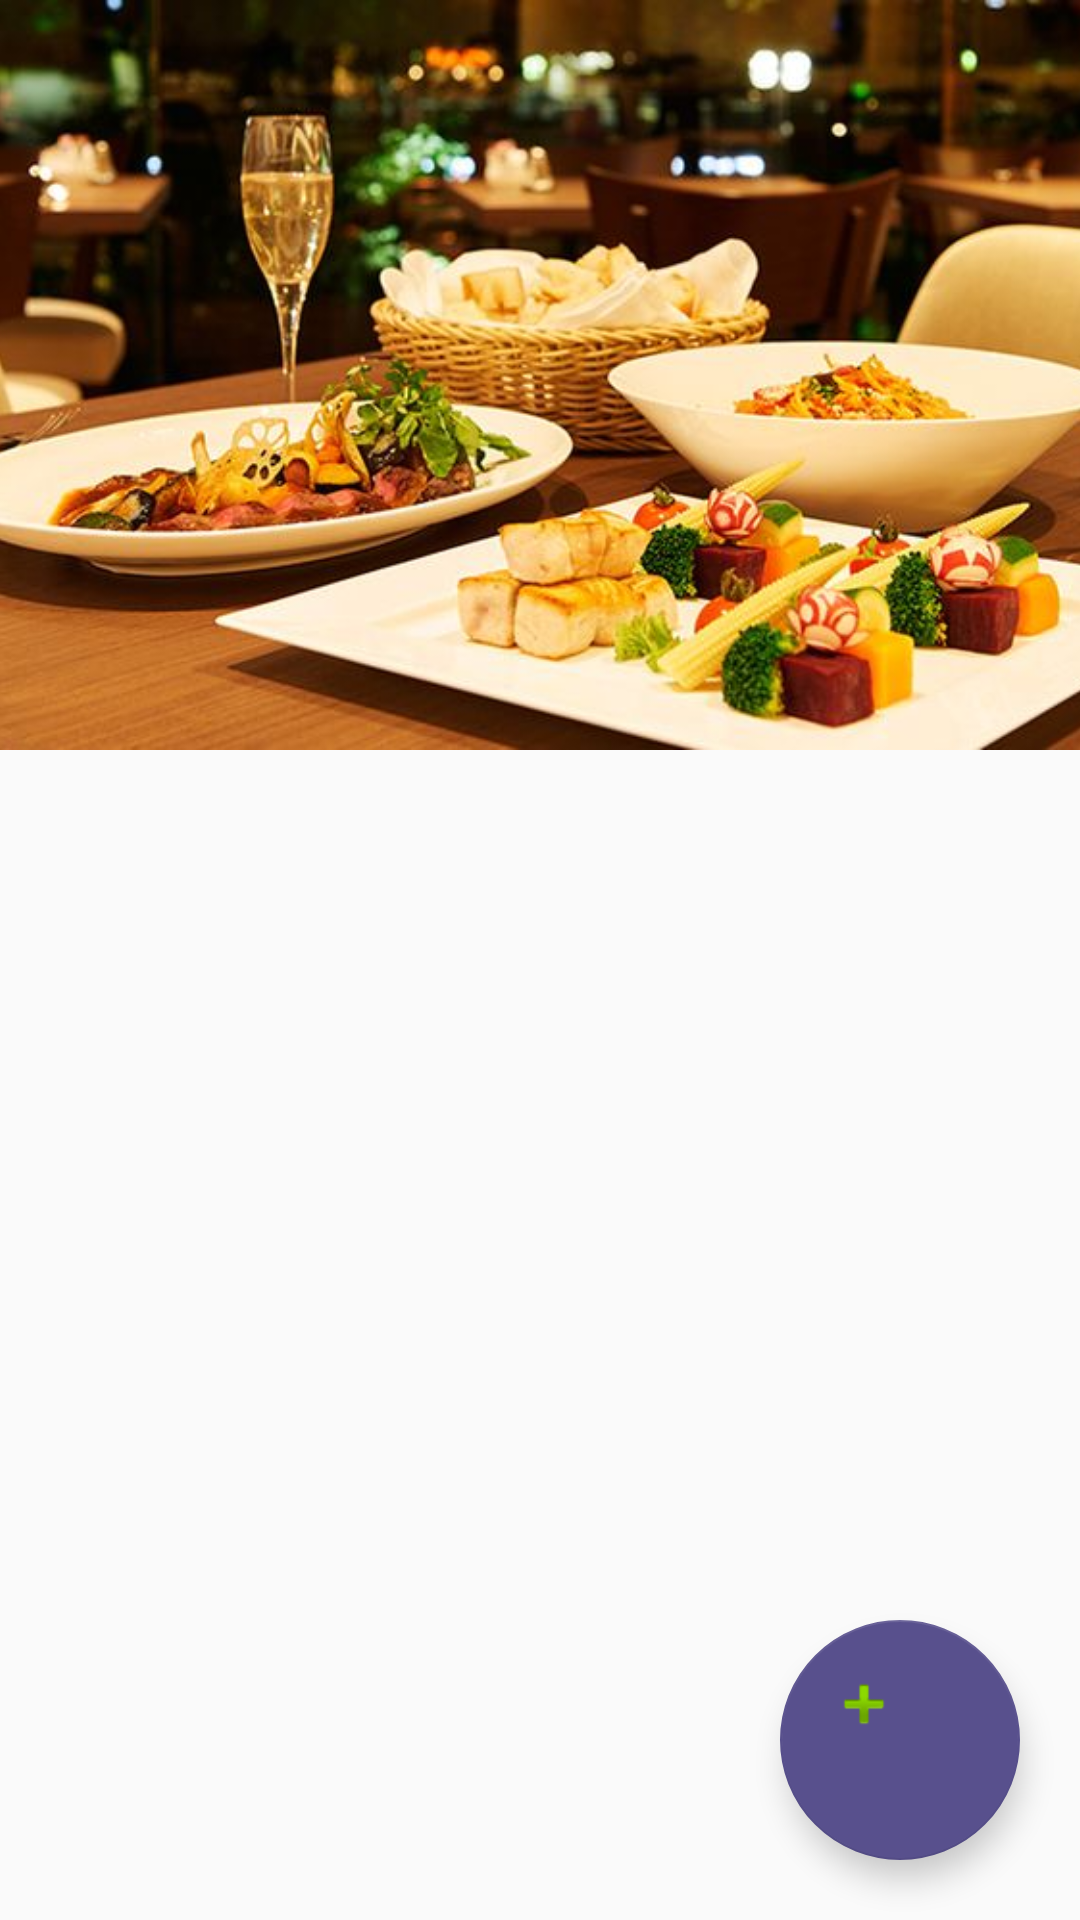

Icon bounding boxes for this 1080w x 1920h phone screenshot, format (x1, y1, x2, y2):
add: (780, 1620, 1020, 1860)
